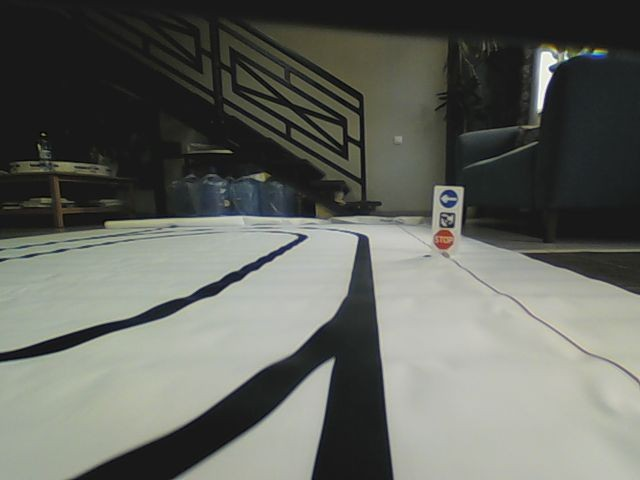Stop: (434, 229, 455, 248)
